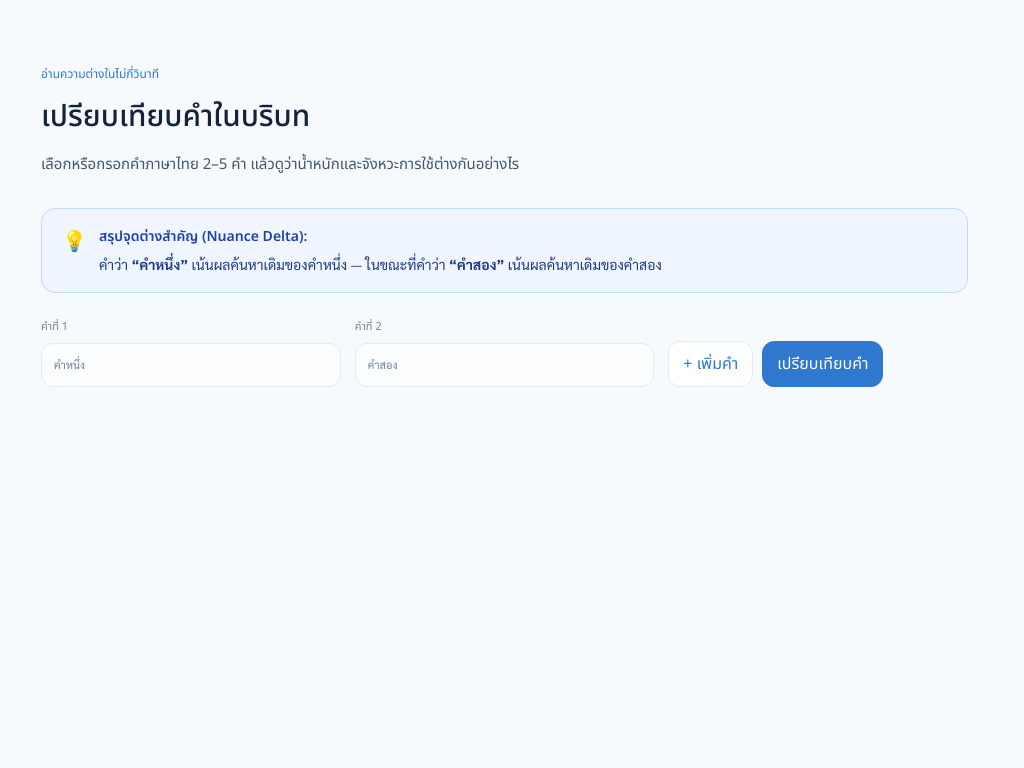
Test case: ContextComparator › uses matching live search metadata when compare returns dictionary sentinels
The width and height of the screenshot is (1024, 768).
Step 1. Click the button "เปรียบเทียบคำ" → [823, 364], box [762,341,884,387]
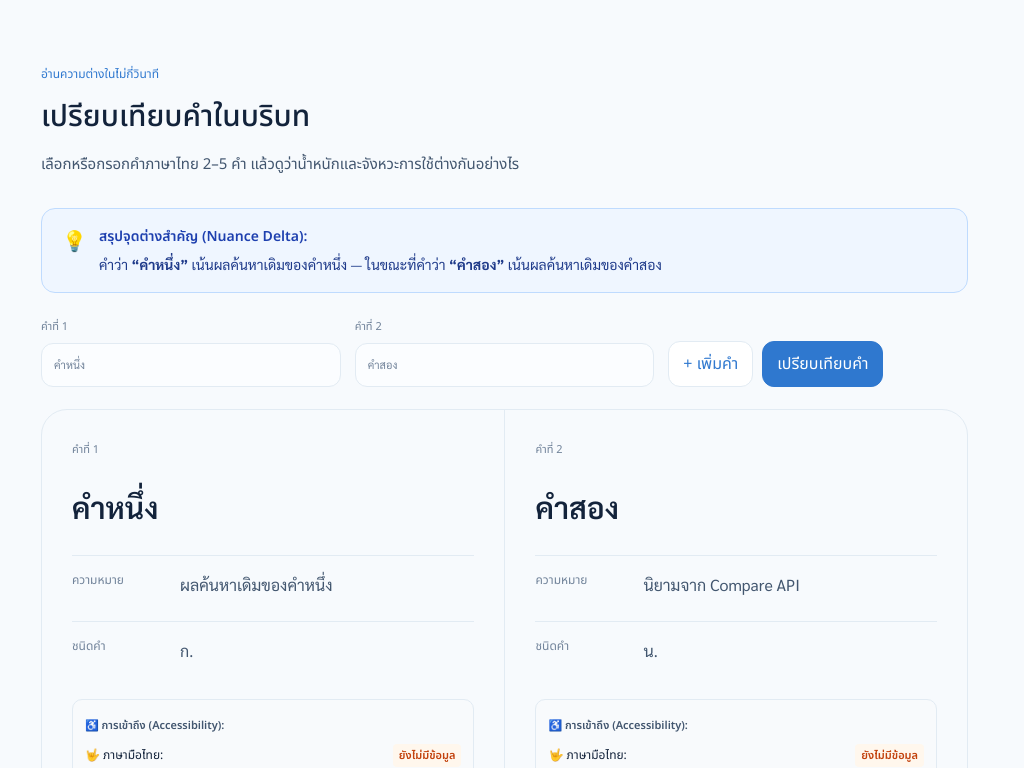
expect the text "ผลค้นหาเดิมของคำหนึ่ง" is shown: met, box [180,574,332,595]
expect the text "ก." is shown: met, box [180,640,193,661]
expect the text "นิยามจาก Compare API" is shown: met, box [644,574,800,595]
